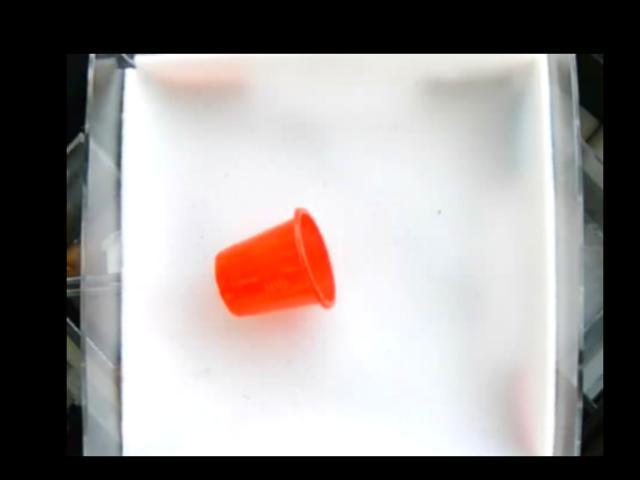Cup: (211, 208, 337, 321)
